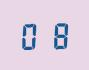eight: (44, 20, 68, 49)
zero: (19, 20, 43, 50)
